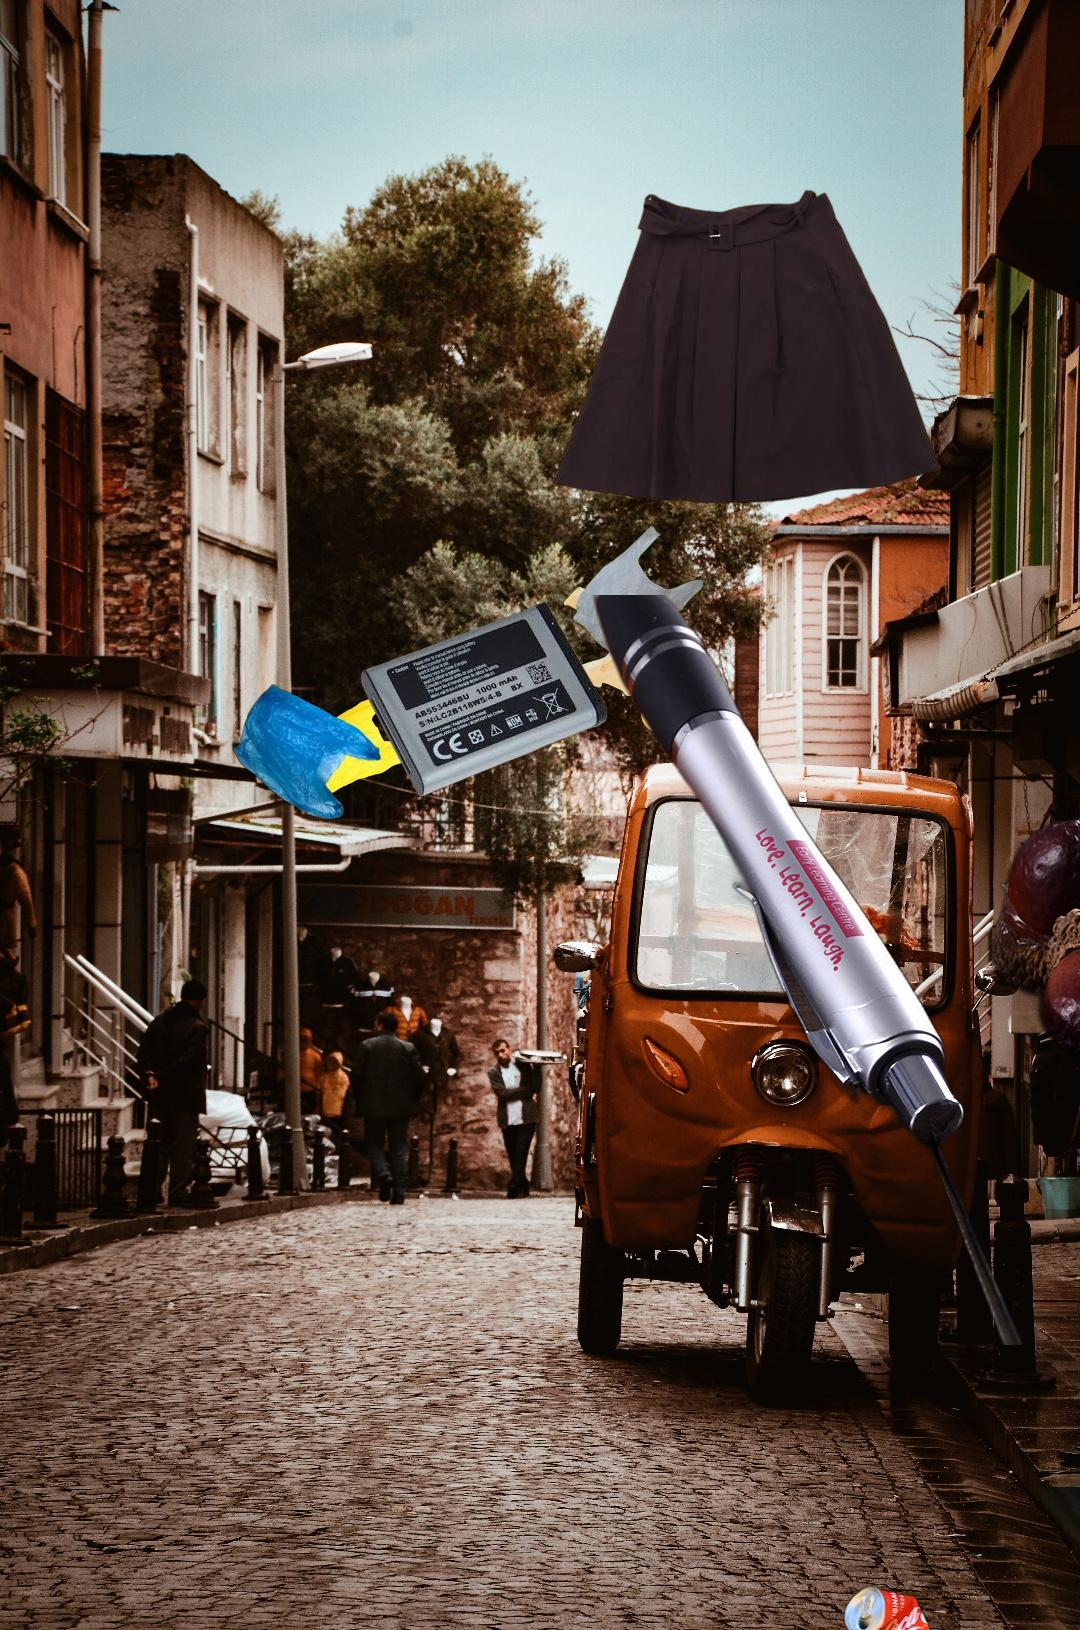battery: (359, 599, 610, 799)
clothes: (551, 187, 945, 506)
metal-cans: (840, 1579, 941, 1630)
paper-bag: (1002, 1594, 1080, 1630)
penholder: (587, 595, 1080, 1344), (944, 1487, 1080, 1630)
plastic-bag: (231, 563, 419, 822), (540, 523, 724, 734)
